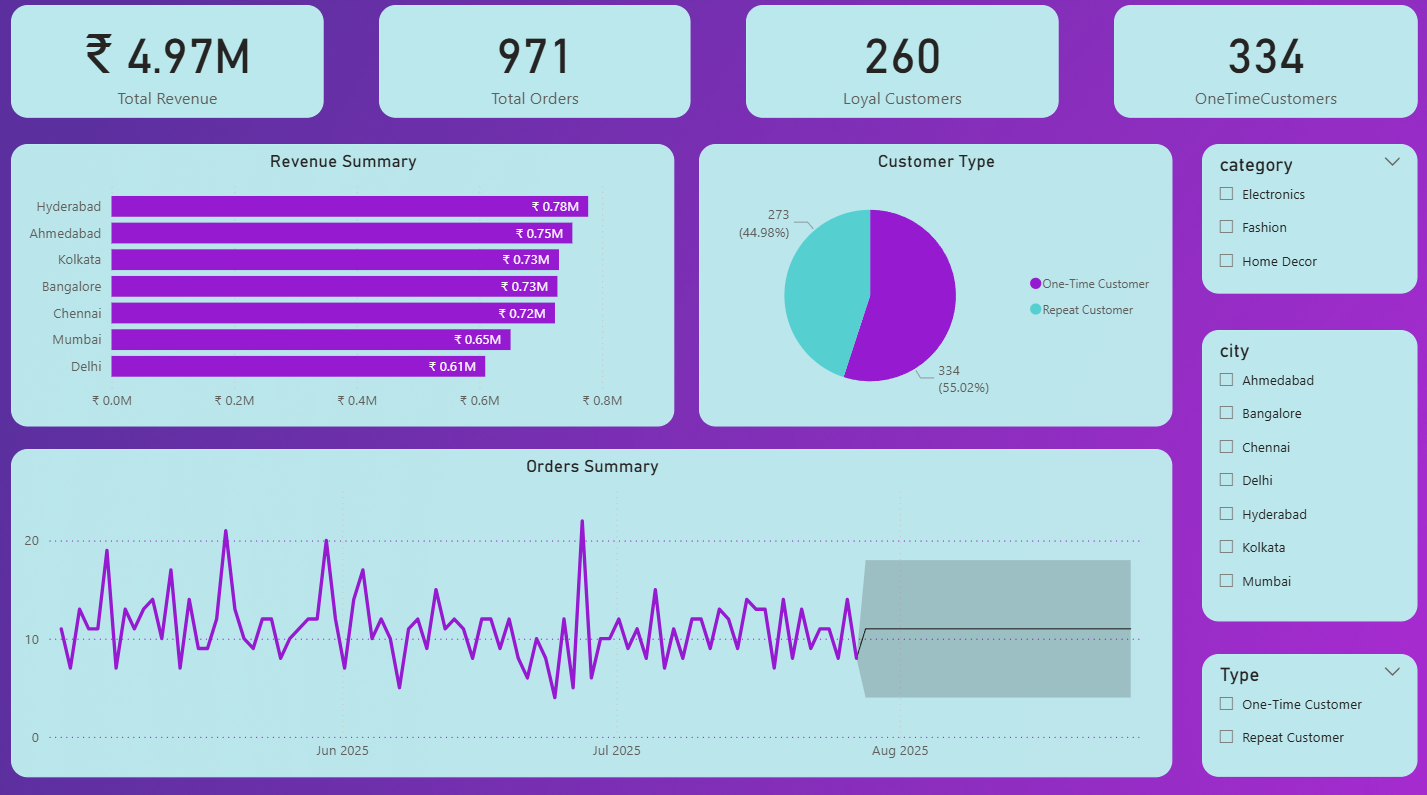

The dashboard page shown, as its layout file describes it:
{"tool":"powerbi","page":{"name":"Dashboard","canvas":[1280,720],"ordinal":0},"visuals":[{"type":"card","fields":{"Values":["Sum(orders.revenue)"]},"box":[9.9,8.1,280.3,101.2],"z":0},{"type":"card","fields":{"Values":["Count(orders.order_id)"]},"box":[339.4,8.1,279.4,101.2],"z":1000},{"type":"card","fields":{"Values":["select","orders.RepeatCustomers"]},"box":[668.1,8.1,280.3,101.2],"z":2000},{"type":"card","fields":{"Values":["orders.OneTimeCustomers"]},"box":[997.6,8.1,272.2,101.2],"z":3000},{"type":"barChart","title":"Revenue Summary","fields":{"Category":["orders.city"],"Y":["Sum(orders.revenue)"]},"box":[9.9,132.5,593.7,253.4],"z":4000},{"type":"lineChart","title":"Orders Summary","fields":{"Y":["CountNonNull(orders.order_id)"],"Category":["orders.order_date"]},"box":[9.9,405.7,1039.7,293.7],"z":5000},{"type":"pieChart","title":"Customer Type","fields":{"Y":["Count(orders.customer_id)"],"Category":["CustomerType.Type"]},"box":[626,132.5,423.6,253.4],"z":6000},{"type":"slicer","fields":{"Values":["CustomerType.Type"]},"box":[1076.4,589.3,193.4,110.1],"z":7000},{"type":"slicer","fields":{"Values":["orders.city"]},"box":[1076.4,299.1,193.4,260.6],"z":8000},{"type":"slicer","fields":{"Values":["products.category"]},"box":[1076.4,132.5,193.4,134.3],"z":9000}]}

Visuals, with their boxes in screenshot pixels (x1, y1, x2, y2), scaled from the page's 1280x720 canvas onto the 1427x795 screenshot:
card - Sum(orders.revenue): {"left": 11, "top": 9, "right": 324, "bottom": 121}
card - Count(orders.order_id): {"left": 378, "top": 9, "right": 690, "bottom": 121}
card - select x orders.RepeatCustomers: {"left": 745, "top": 9, "right": 1057, "bottom": 121}
card - orders.OneTimeCustomers: {"left": 1112, "top": 9, "right": 1416, "bottom": 121}
"Revenue Summary" barChart: {"left": 11, "top": 146, "right": 673, "bottom": 426}
"Orders Summary" lineChart: {"left": 11, "top": 448, "right": 1170, "bottom": 772}
"Customer Type" pieChart: {"left": 698, "top": 146, "right": 1170, "bottom": 426}
slicer - CustomerType.Type: {"left": 1200, "top": 651, "right": 1416, "bottom": 772}
slicer - orders.city: {"left": 1200, "top": 330, "right": 1416, "bottom": 618}
slicer - products.category: {"left": 1200, "top": 146, "right": 1416, "bottom": 295}
